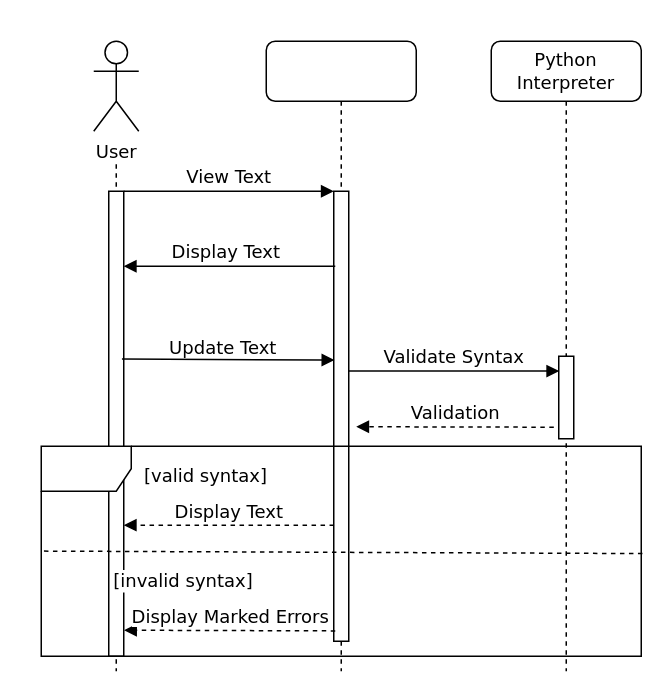
Some shapes in this 671 by 698 pixel diagram are drawn without their labels. Here are the shapes that lost their labels. From the top down, the box of each, then its label:
(265, 40, 416, 671): Text Editor
(40, 445, 641, 656): alt
